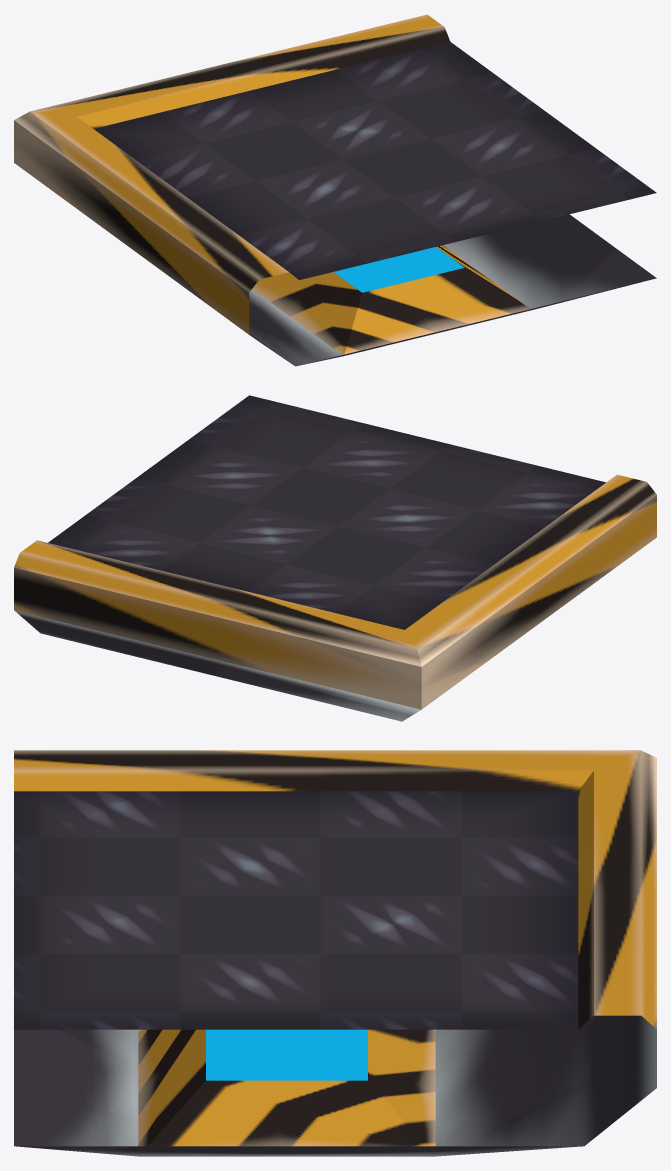
Rendered from PlataformLeftUpCorner.fbx.
3 renders of one model, top to bottom at view 1: azimuth 30°, elevation 25°; view 2: azimuth 150°, elevation 25°; view 3: azimuth 270°, elevation 25°, orthographic. The views are drawn at different scales.
Visible parts, largest first — view 1: PlataformLeftUpCorner; view 2: PlataformLeftUpCorner; view 3: PlataformLeftUpCorner.
Boxes of the visible parts, left/top/right/bottom form: PlataformLeftUpCorner: left=14, top=14, right=656, bottom=366; PlataformLeftUpCorner: left=14, top=395, right=656, bottom=721; PlataformLeftUpCorner: left=14, top=750, right=656, bottom=1156.
Bounding box in the file's own units: 100 × 33.23 × 100.
